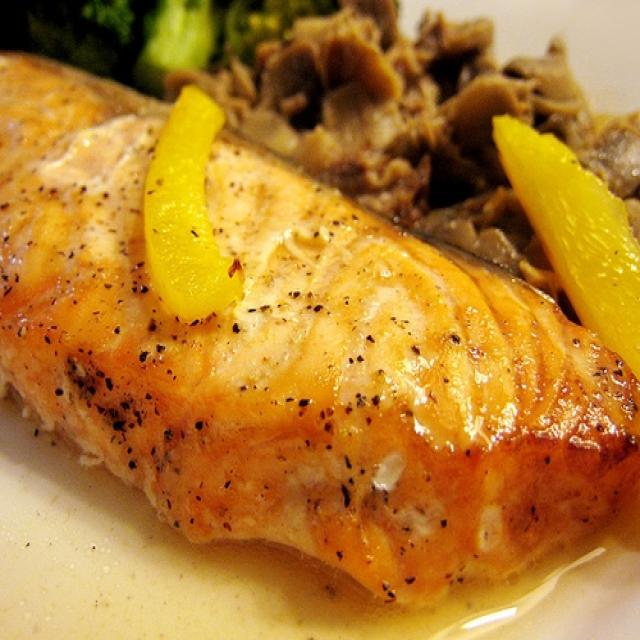熟制海鲜: (5, 11, 626, 617)
